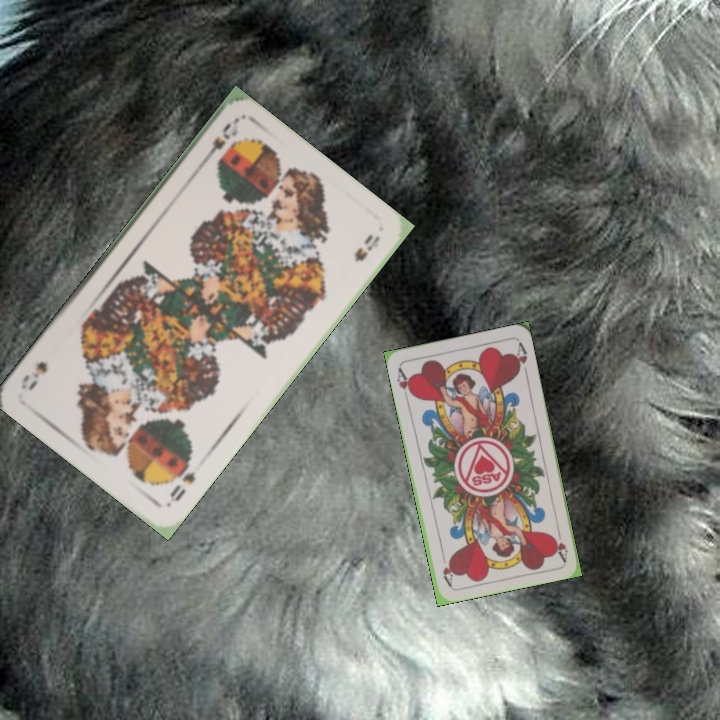HA: (392, 363, 416, 403), (549, 523, 570, 563)
SO: (198, 116, 241, 167), (163, 459, 198, 508)
